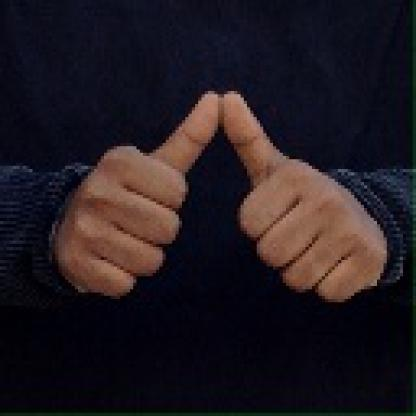A: (51, 86, 409, 314)
